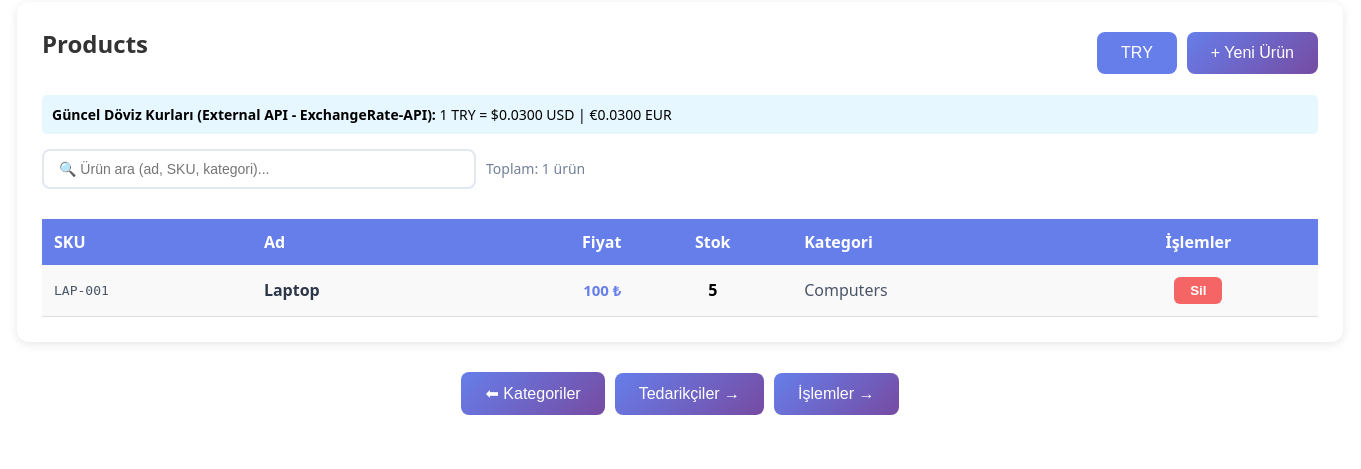
ProductPage › fallsBackToThePageMessageWhenTheFailureCarriesNoBackendMessage
Check: the text "Laptop" is shown, box [252,265,464,316]
Click the button "Sil": click(1198, 290) [1174,277,1222,304]
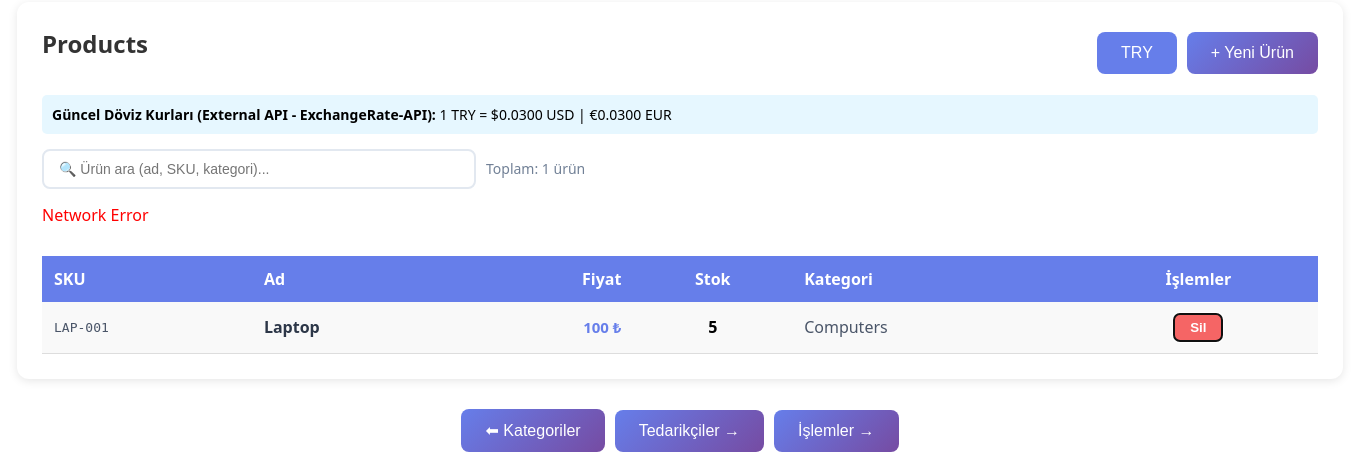
Check: the text "Network Error" is shown, box [42,204,149,226]
